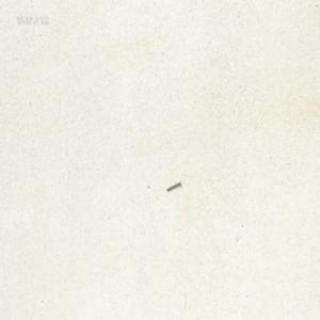Bolttrack_idkeyframe: (165, 179, 180, 190)
